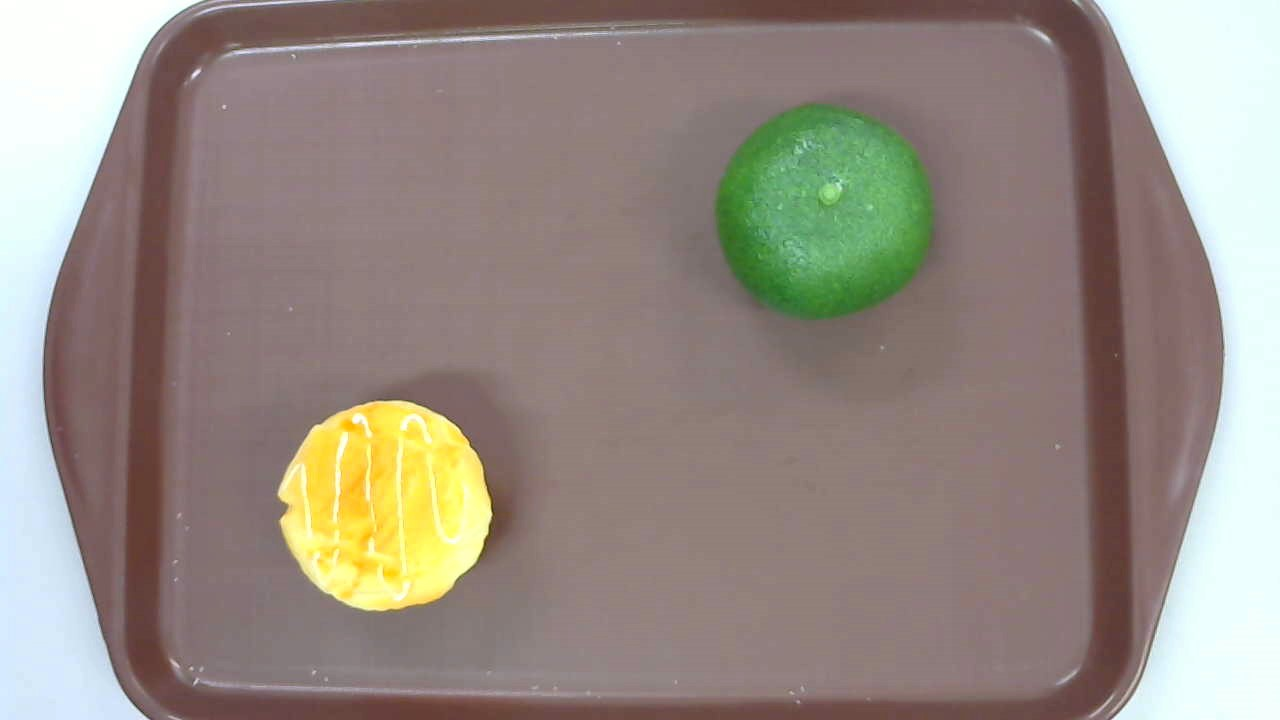cupcake: (275, 401, 492, 611)
green orange: (716, 103, 933, 321)
